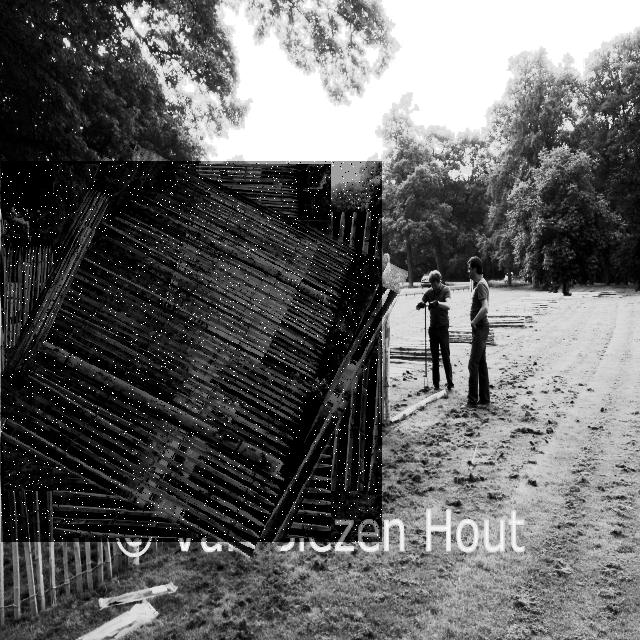fences: (1, 161, 382, 542)
